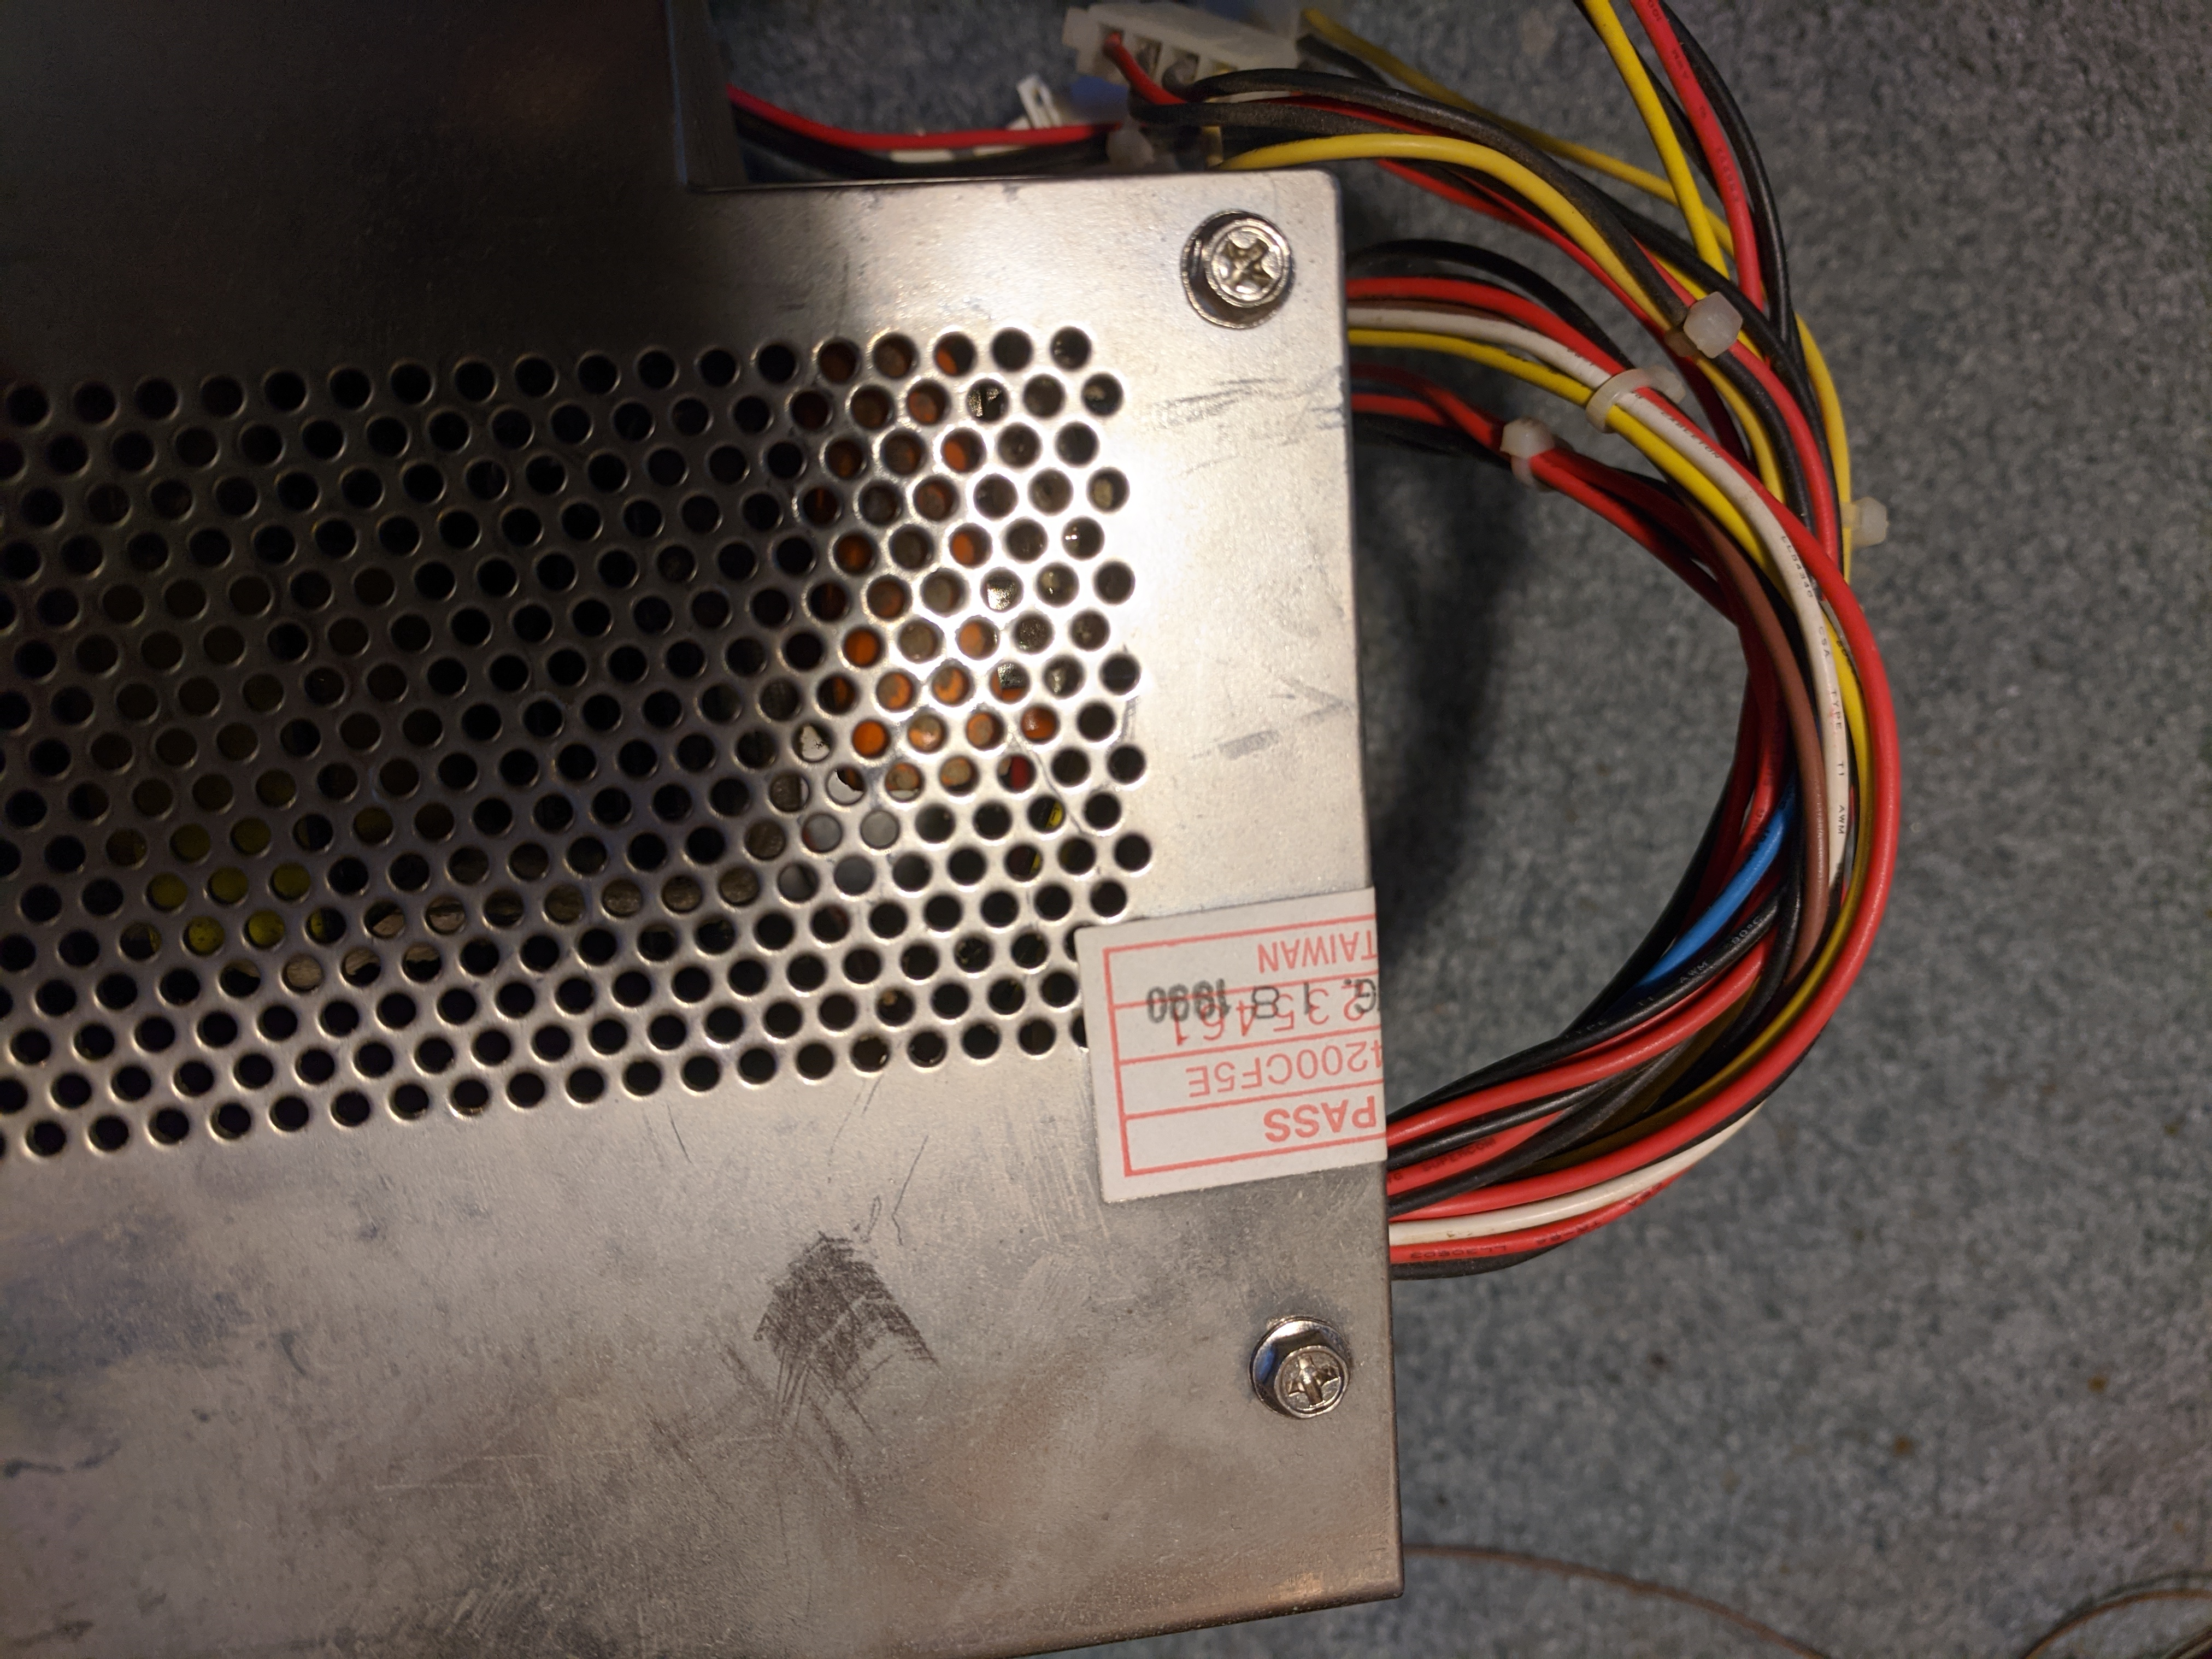cross_recessed_screw: (733, 319, 876, 458), (953, 910, 1083, 1044)
